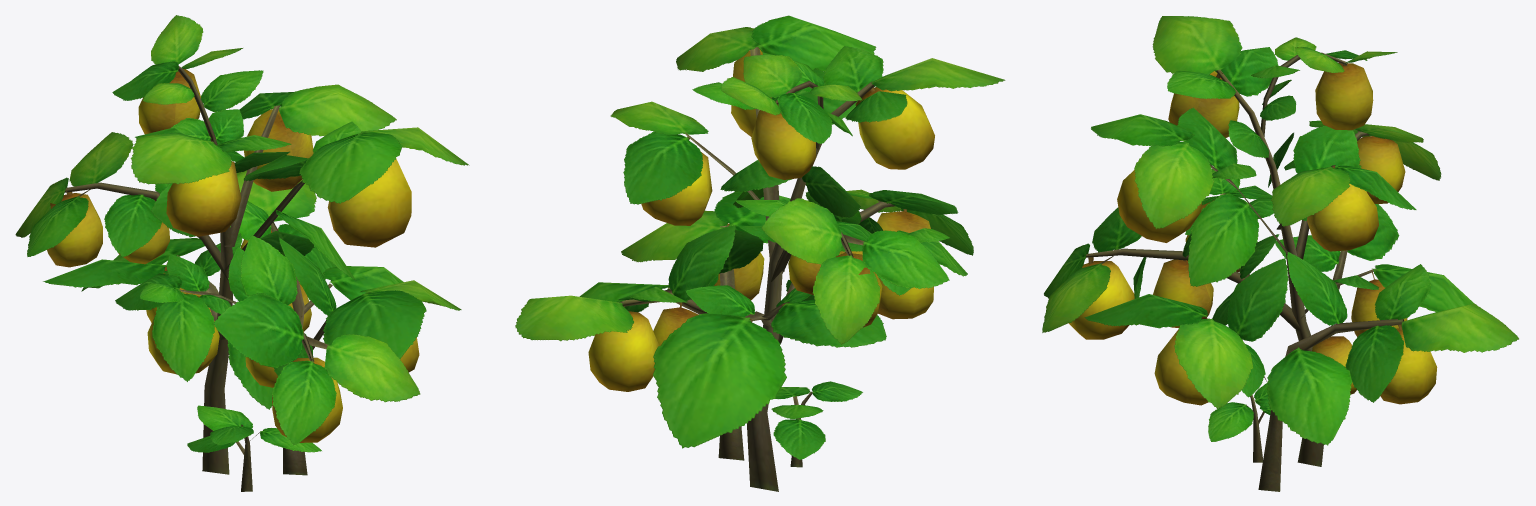
Rendered from botany_000016_02.FBX.
3 views of the same model, side by side, from view 1: azimuth 30°, elevation 25°; view 2: azimuth 150°, elevation 25°; view 3: azimuth 270°, elevation 25° (orthographic). The views are drawn at different scales.
Visible parts, largest first — view 1: botany_000016_02; view 2: botany_000016_02; view 3: botany_000016_02.
Part boxes in pixels (x1,y1,x2,y2): botany_000016_02: (15, 15, 469, 491); botany_000016_02: (515, 15, 1005, 491); botany_000016_02: (1042, 16, 1518, 491).
Size of the model in its own units: 90.12 by 92.17 by 98.39.
Materials: 1 (1 with a texture image).
